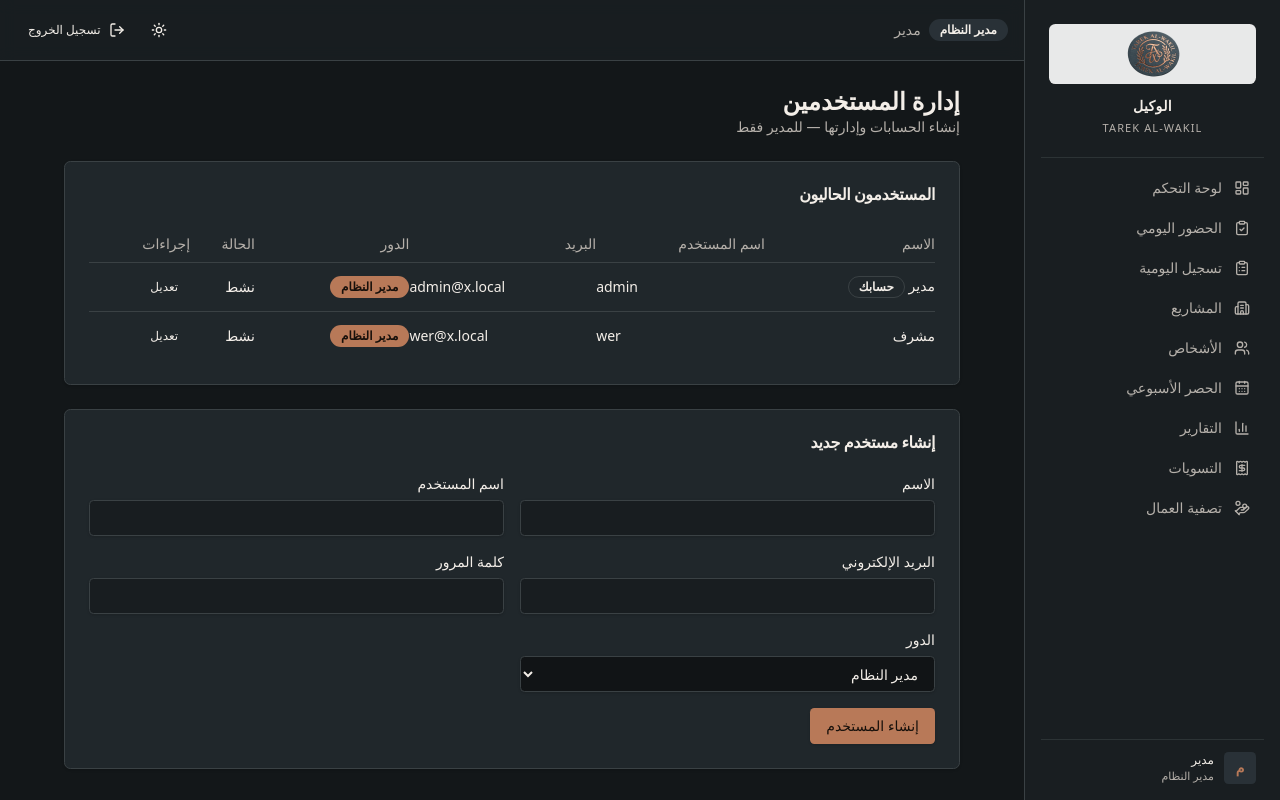
Test: UsersPage edit flow › opens the edit form and saves name changes via PATCH
expect the text "wer" is shown: met, box [596,312,765,360]
Step 1. Click the button "تعديل" in the row of "مشرف" → coordinates (164, 336), box [138,320,190,352]
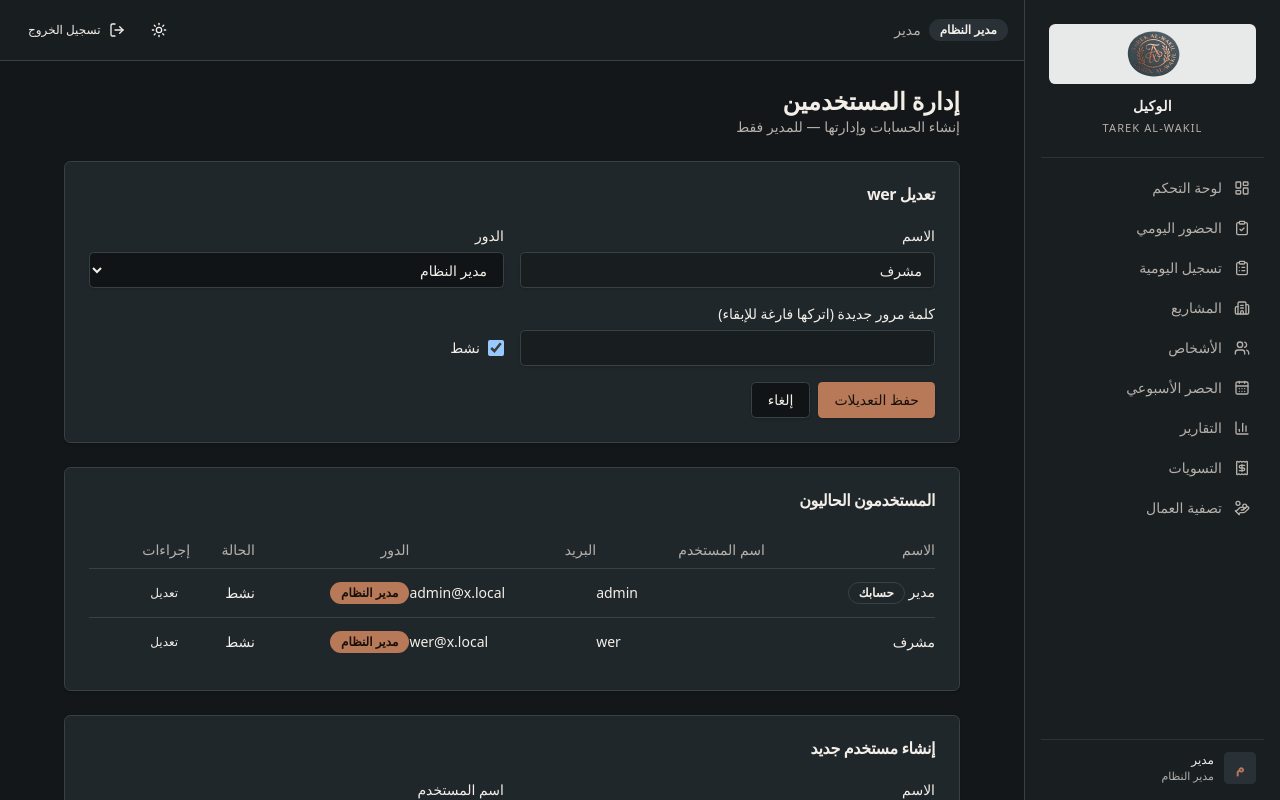
expect the text "تعديل wer" is shown: met, box [867,183,935,205]
Step 2. Replace the text in the field with id "ue-name" with "مشرف جديد" → coordinates (728, 270), box [520,252,935,288]
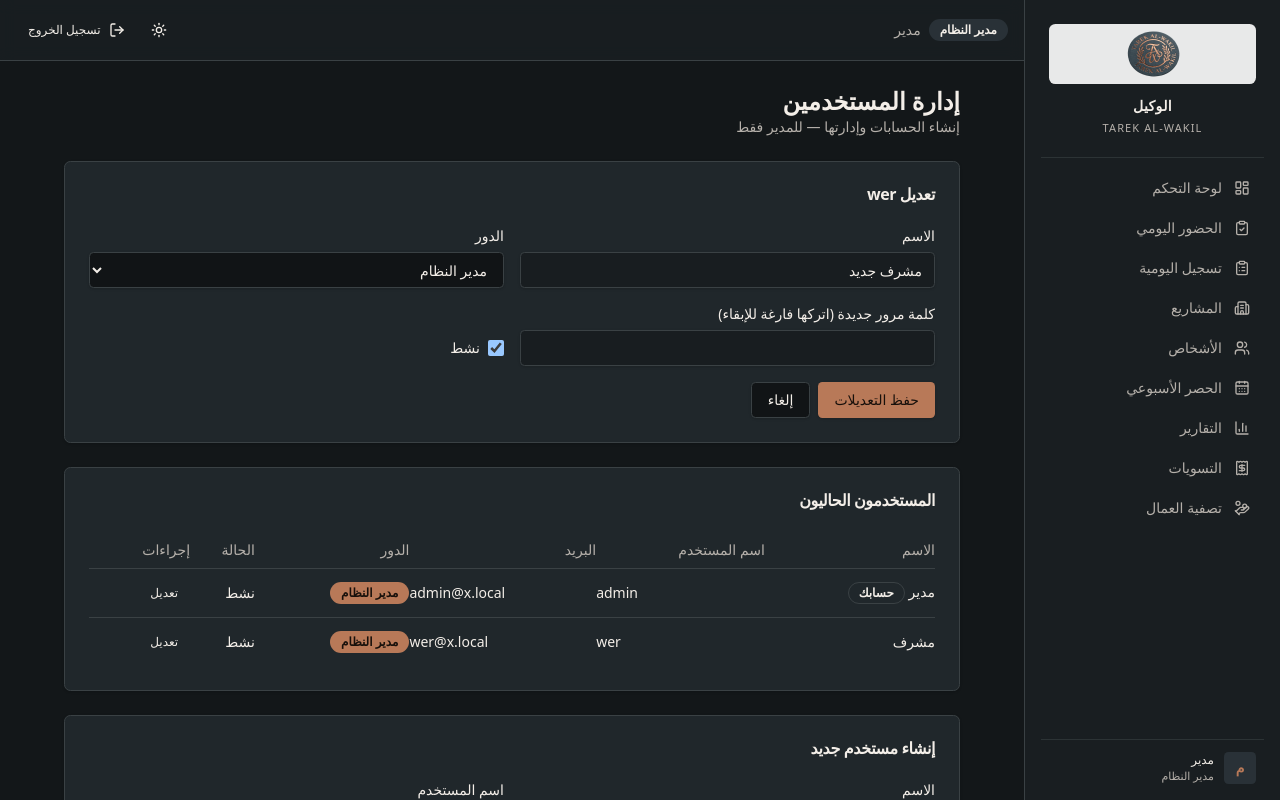
Step 3. Click the button "حفظ التعديلات" → coordinates (877, 400), box [818,382,935,418]
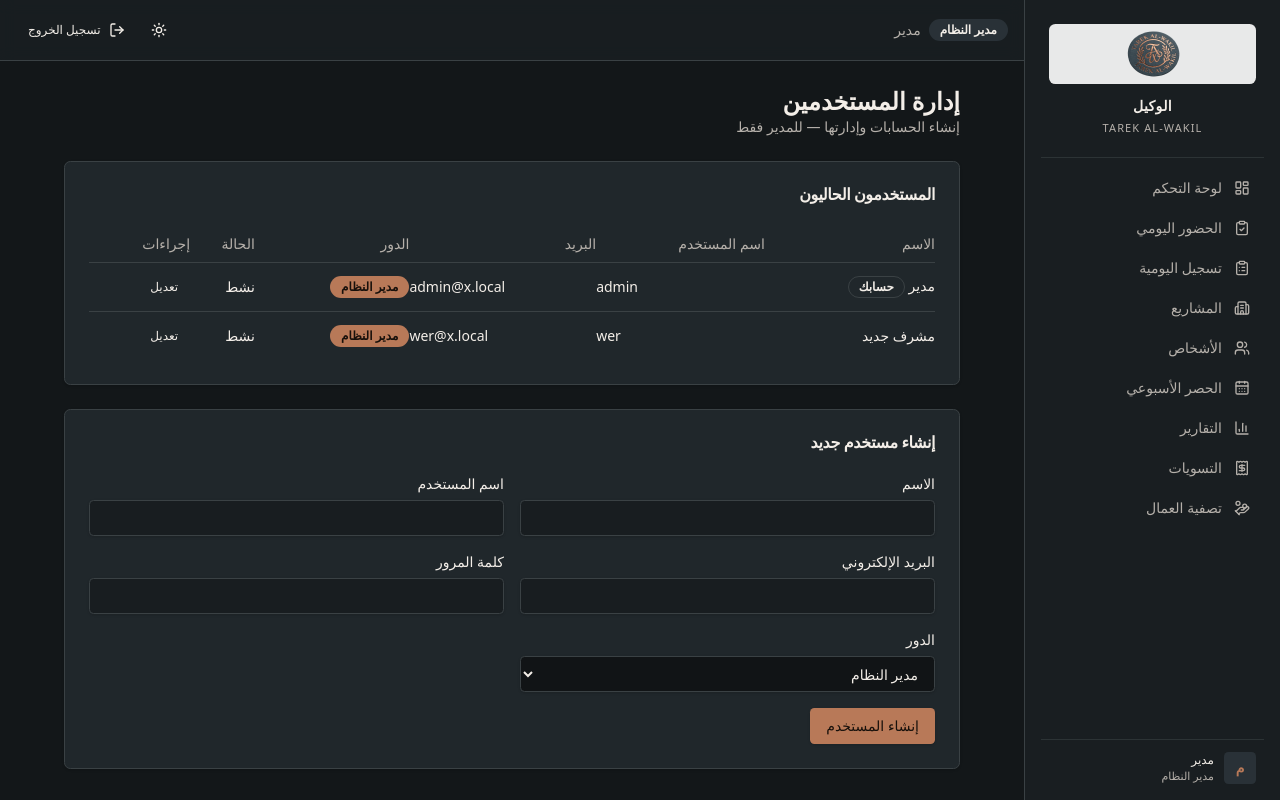
expect the text "مشرف جديد" is shown: met, box [765,312,935,360]
